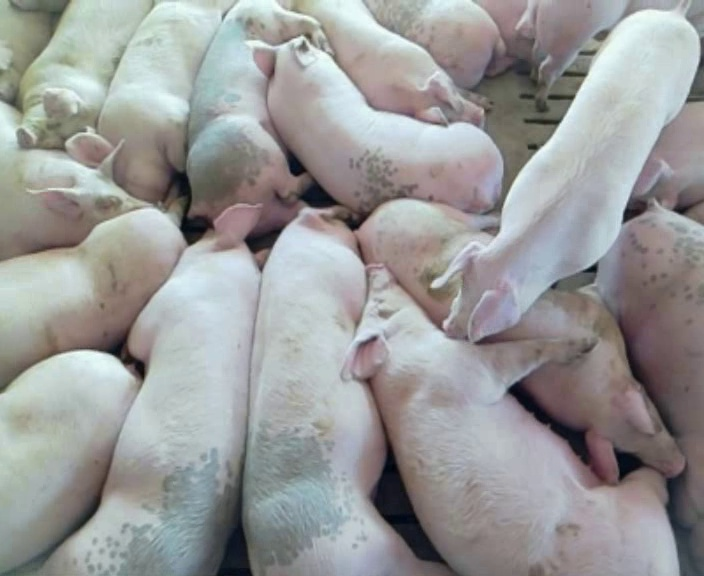pig: (342, 268, 677, 574), (433, 1, 698, 340), (42, 204, 270, 573), (242, 208, 447, 573), (251, 38, 502, 212), (597, 203, 703, 569), (0, 186, 185, 388), (64, 2, 229, 201), (0, 350, 139, 572), (290, 2, 492, 126), (16, 2, 150, 148), (367, 2, 517, 87), (628, 101, 703, 208)
